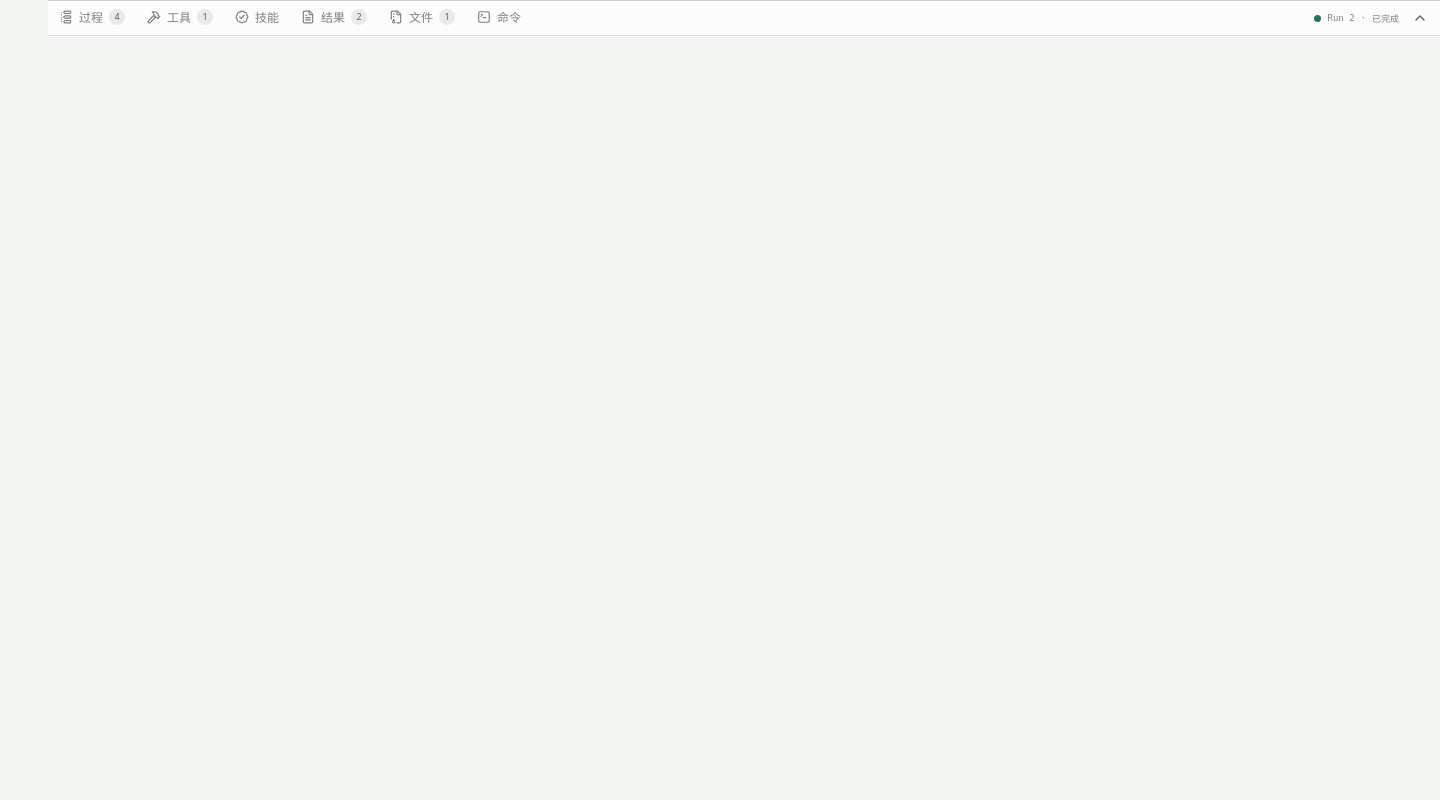
Scenario: RunDrawer › shows the Writer task and result as the authority for a review-only prose ChangeSet
Click the tab "结果 2".
click(334, 18)  # box 290,1 -> 378,35
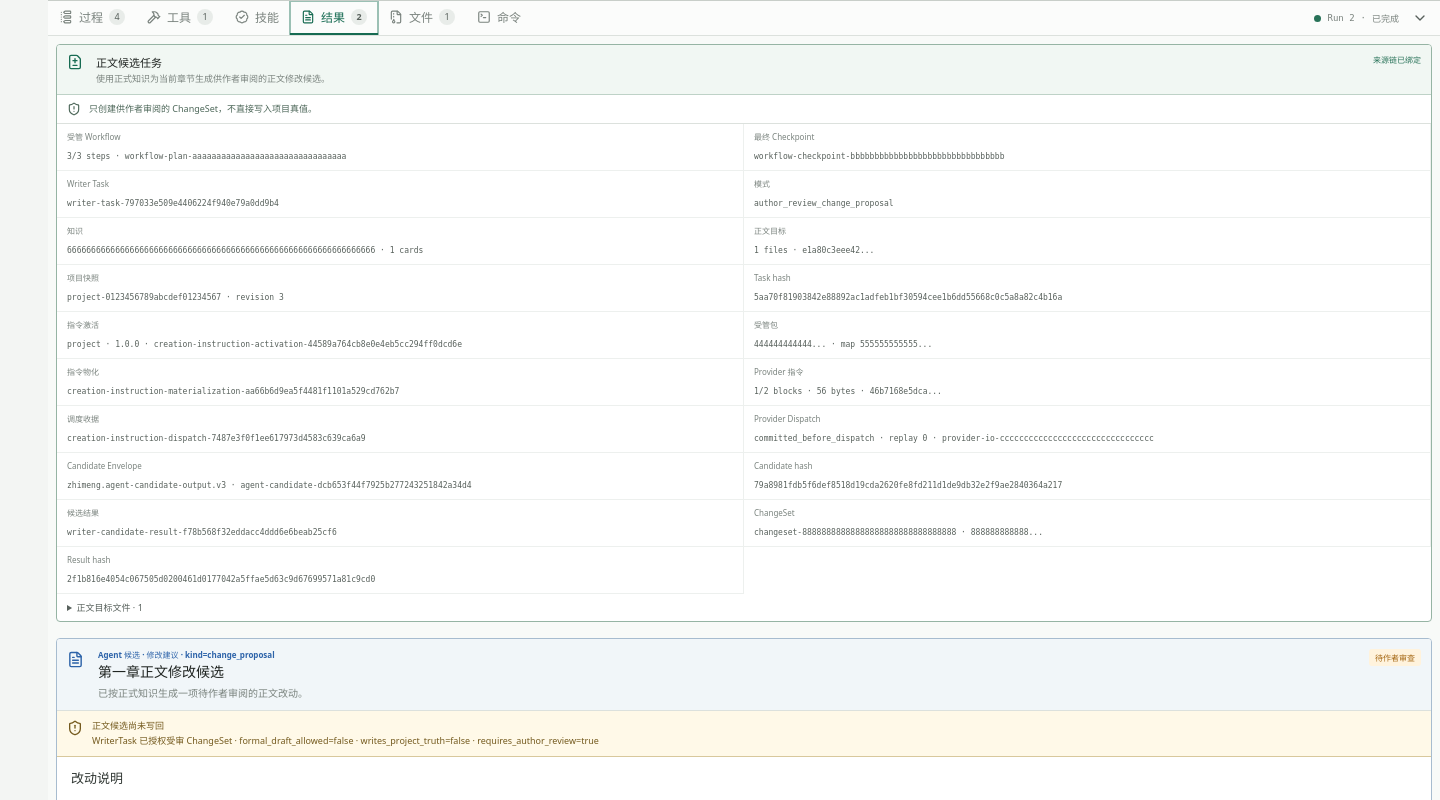
Check: the element named "Writer 任务与候选结果" shows "正文候选任务", box 96,55 -> 162,70
Check: the text "只创建供作者审阅的 ChangeSet，不直接写入项目真值。" is shown, box 89,102 -> 317,115
Check: the text "3/3 steps · workflow-plan-aaaaaaaaaaaaaaaaaaaaaaaaaaaaaaaa" is shown, box 67,152 -> 346,161
